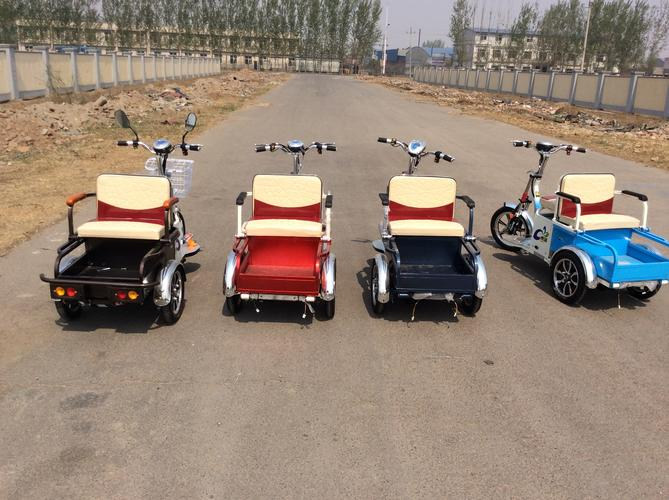empty: (501, 116, 669, 316), (46, 120, 197, 329), (362, 126, 494, 327), (231, 127, 343, 331)
